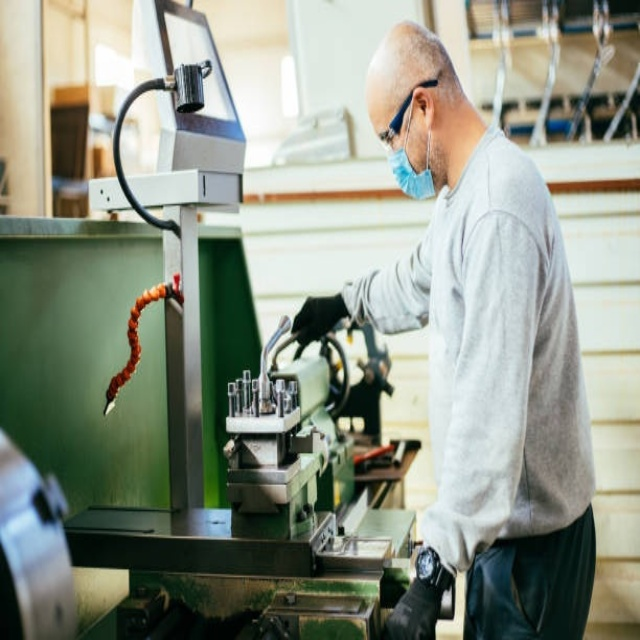Gafas: (379, 75, 439, 153)
Guantes: (381, 577, 441, 640), (289, 292, 351, 352)
Mascara: (387, 101, 437, 200)
